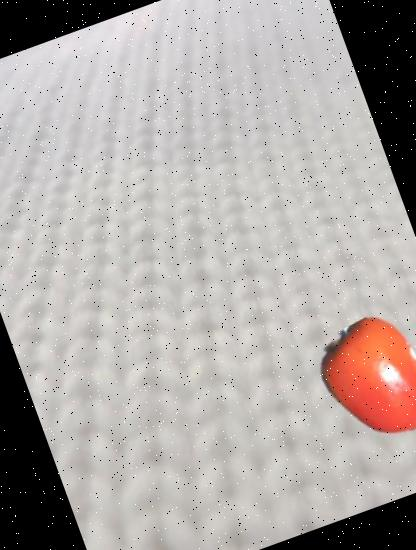Kaki: (297, 301, 416, 459)
